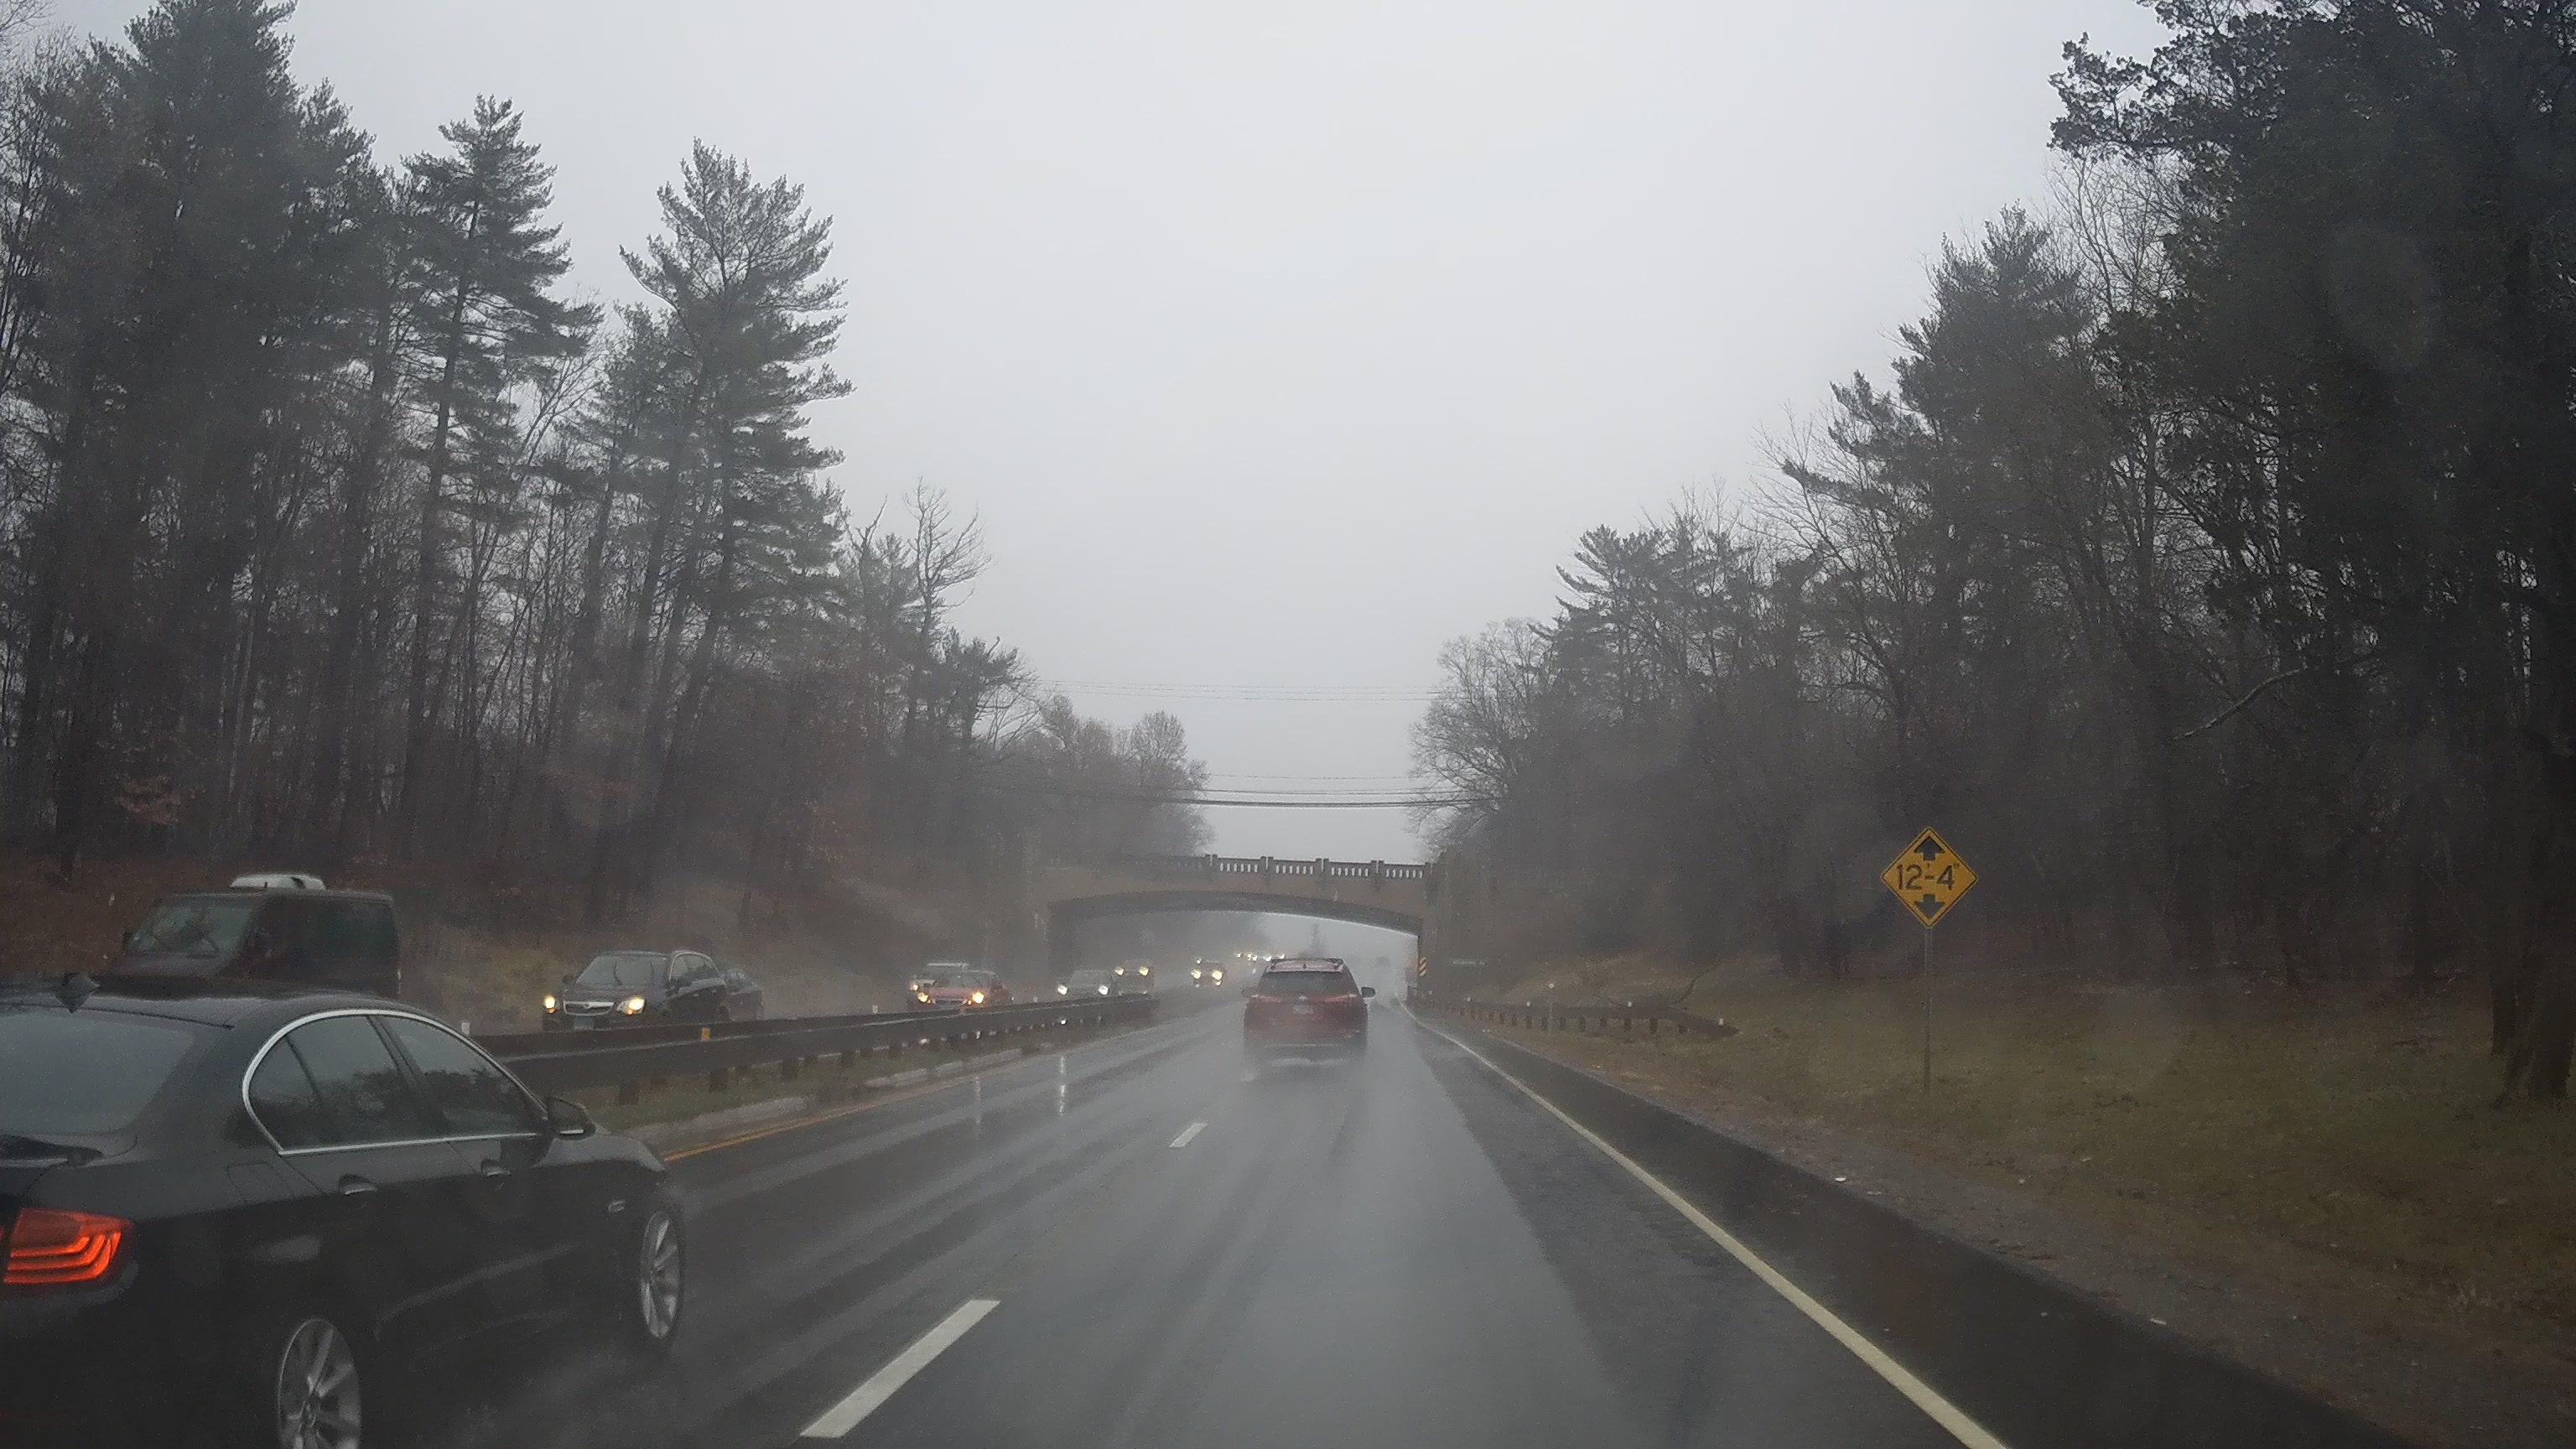low-clearance-sign: (1881, 826, 1978, 929)
